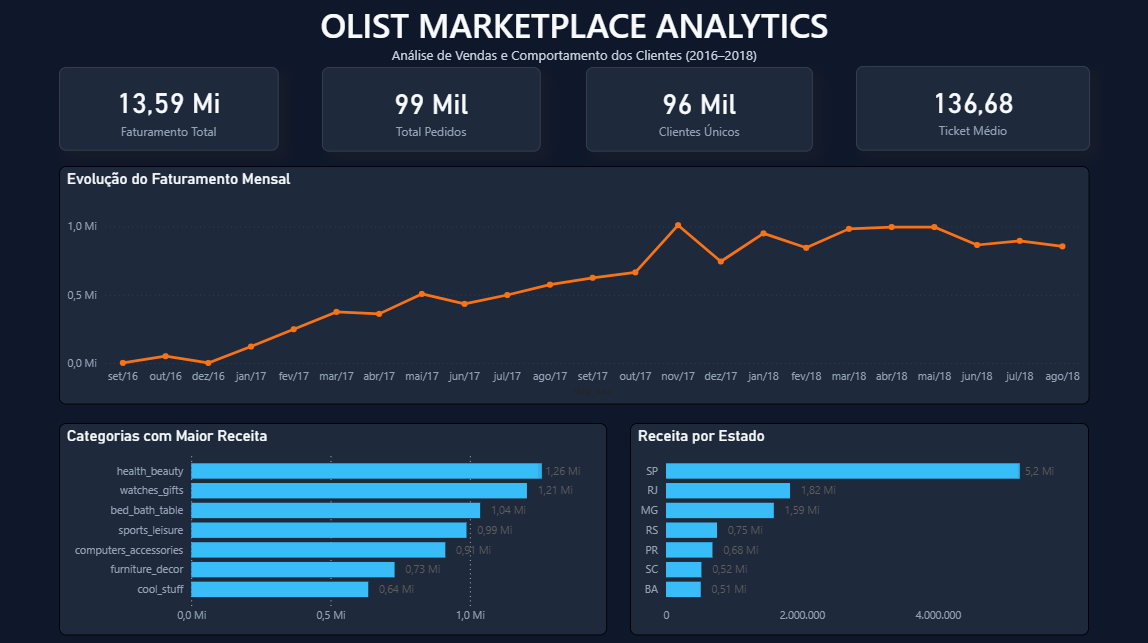

The dashboard page shown, as its layout file describes it:
{"tool":"powerbi","page":{"name":"Página 1","canvas":[1280,720],"ordinal":0},"visuals":[{"type":"textbox","box":[0,0,1280.9,78.7],"z":0},{"type":"card","fields":{"Values":["olist_sales_bi.Faturamento Total"]},"box":[67.8,78.2,243.7,93.1],"z":1000},{"type":"card","fields":{"Values":["olist_sales_bi.Total Pedidos"]},"box":[359.8,78.2,242.5,94.3],"z":2000},{"type":"card","fields":{"Values":["olist_sales_bi.Clientes Únicos"]},"box":[652.9,78.2,251.7,94.3],"z":3000},{"type":"card","fields":{"Values":["olist_sales_bi.Ticket Médio"]},"box":[952.9,77,259.8,94.3],"z":4000},{"type":"lineChart","title":"Evolução do Faturamento Mensal","fields":{"Category":["olist_sales_bi.Mês_Ano"],"Y":["olist_sales_bi.Faturamento Total"]},"box":[67.4,187.6,1144.9,265.2],"z":5000},{"type":"barChart","title":"Categorias com Maior Receita","fields":{"Category":["olist_sales_bi.product_category_name_english"],"Y":["olist_sales_bi.Faturamento Total"]},"box":[67.8,473.6,609.2,235.6],"z":6000},{"type":"clusteredBarChart","title":"Receita por Estado","fields":{"Category":["olist_sales_bi.customer_state"],"Y":["olist_sales_bi.Faturamento Total"]},"box":[702.3,473.6,510.3,235.6],"z":7000}]}

Visuals, with their boxes in screenshot pixels (x1, y1, x2, y2), scaled from the page's 1280x720 canvas onto the 1148x643 screenshot:
textbox: left=0, top=0, right=1147, bottom=70
card - olist_sales_bi.Faturamento Total: left=61, top=70, right=279, bottom=153
card - olist_sales_bi.Total Pedidos: left=323, top=70, right=540, bottom=154
card - olist_sales_bi.Clientes Únicos: left=586, top=70, right=811, bottom=154
card - olist_sales_bi.Ticket Médio: left=855, top=69, right=1088, bottom=153
"Evolução do Faturamento Mensal" lineChart: left=60, top=168, right=1087, bottom=404
"Categorias com Maior Receita" barChart: left=61, top=423, right=607, bottom=633
"Receita por Estado" clusteredBarChart: left=630, top=423, right=1088, bottom=633
